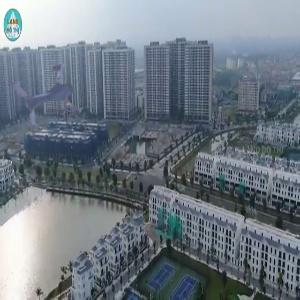drone: (11, 49, 103, 141)
